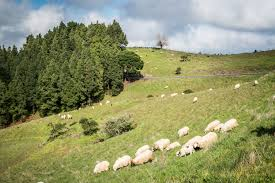sheep: (174, 133, 201, 158), (197, 128, 217, 153), (109, 154, 134, 168), (94, 159, 113, 176), (204, 117, 223, 134), (133, 151, 153, 166), (217, 119, 237, 134), (137, 143, 153, 157), (177, 122, 191, 138), (155, 138, 173, 150), (233, 83, 243, 92), (252, 78, 261, 88), (65, 112, 74, 122), (169, 92, 180, 100), (191, 95, 199, 103), (59, 113, 66, 121), (160, 94, 166, 101)
